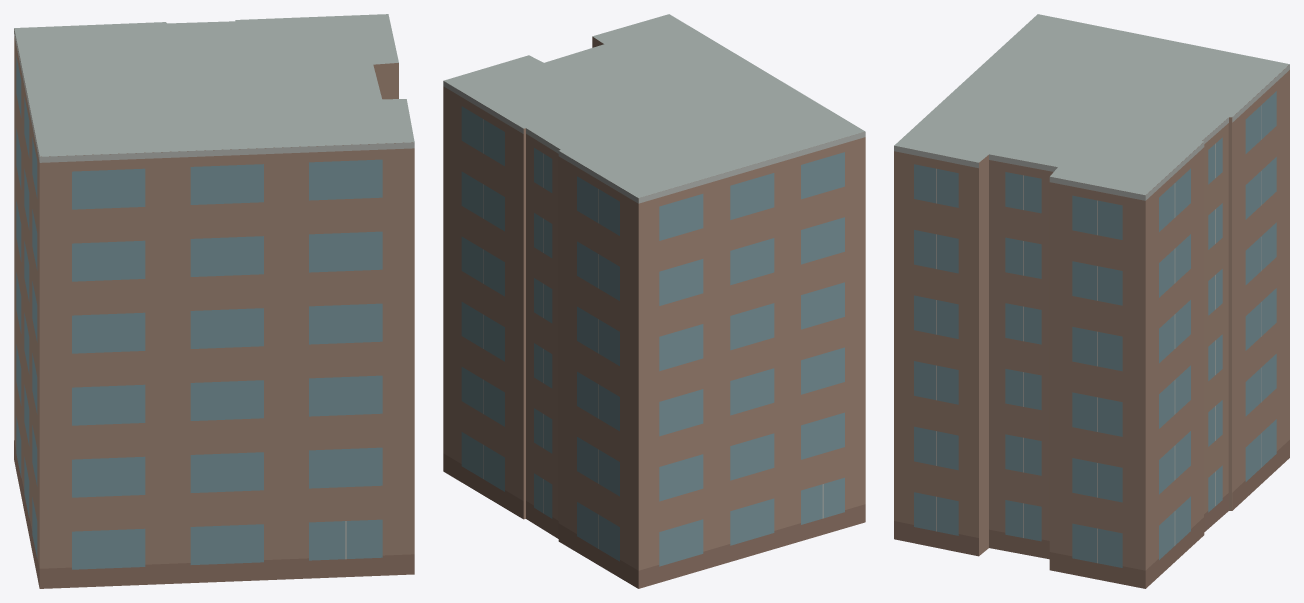
Rendered from survey-upis-33020609.glb.
3 renders of one model, left to right at view 1: azimuth 30°, elevation 25°; view 2: azimuth 150°, elevation 25°; view 3: azimuth 270°, elevation 25°, orthographic. The views are drawn at different scales.
Visible parts, largest first — view 1: survey-upis-33020609.tmp; view 2: survey-upis-33020609.tmp; view 3: survey-upis-33020609.tmp.
Boxes of the visible parts, x1,y1,x2,y2 form: survey-upis-33020609.tmp: [14, 14, 414, 588]; survey-upis-33020609.tmp: [443, 14, 865, 588]; survey-upis-33020609.tmp: [894, 14, 1289, 588].
Bounding box in the file's own units: 17.15 × 17.35 × 15.82.
